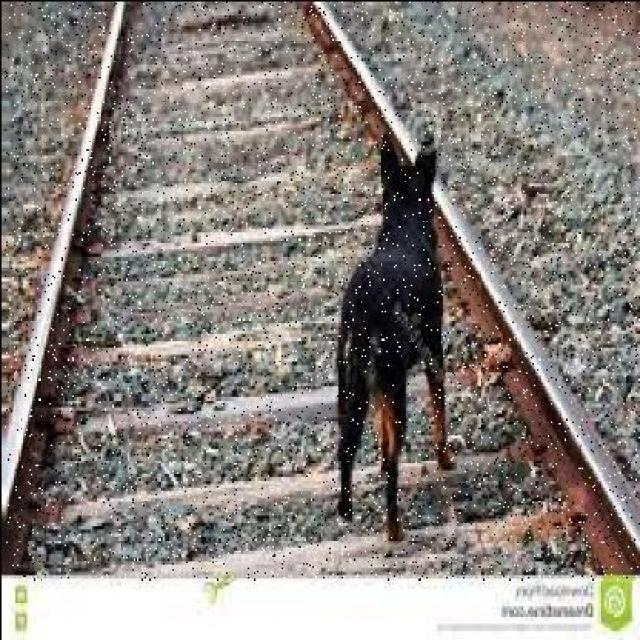danger: (314, 138, 460, 542)
rail: (3, 0, 640, 578)
